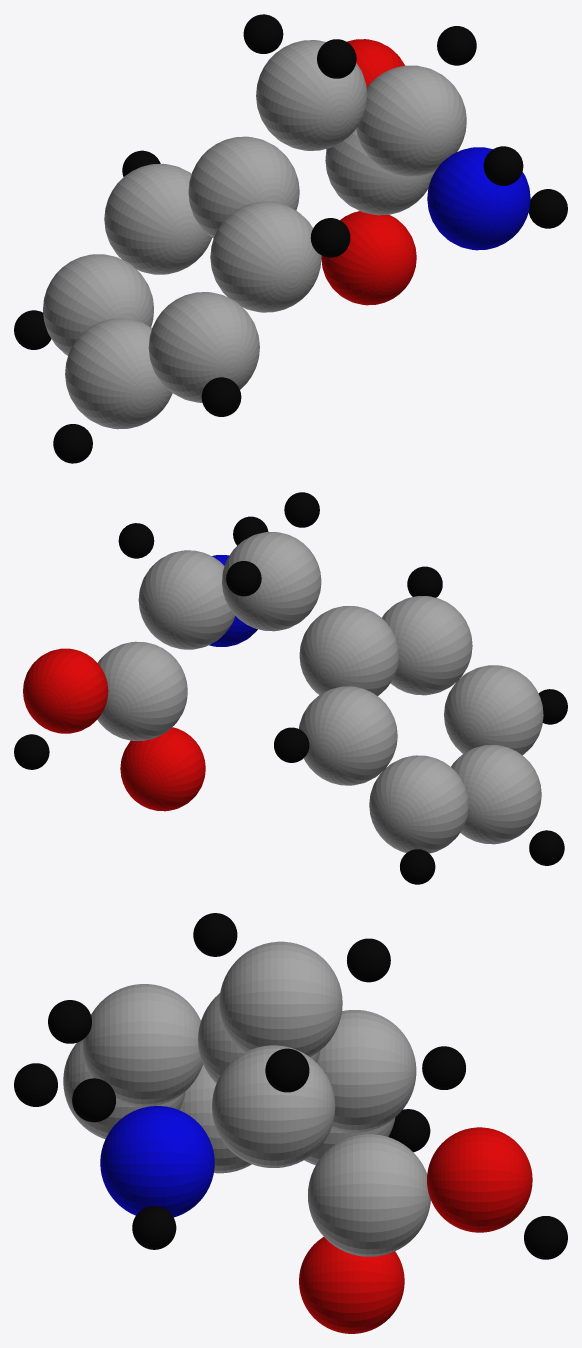
The model's file is Phenylalanine.glb.
3 views of the same model, one above another, from view 1: azimuth 30°, elevation 25°; view 2: azimuth 150°, elevation 25°; view 3: azimuth 270°, elevation 25° (orthographic). The views are drawn at different scales.
Visible parts, largest first — view 1: world; view 2: world; view 3: world.
Boxes of the visible parts, <box> form: world: <box>14,14,567,463</box>; world: <box>14,492,567,884</box>; world: <box>14,913,567,1333</box>.
Bounding box in the file's own units: 7.07 × 4.88 × 6.29.
